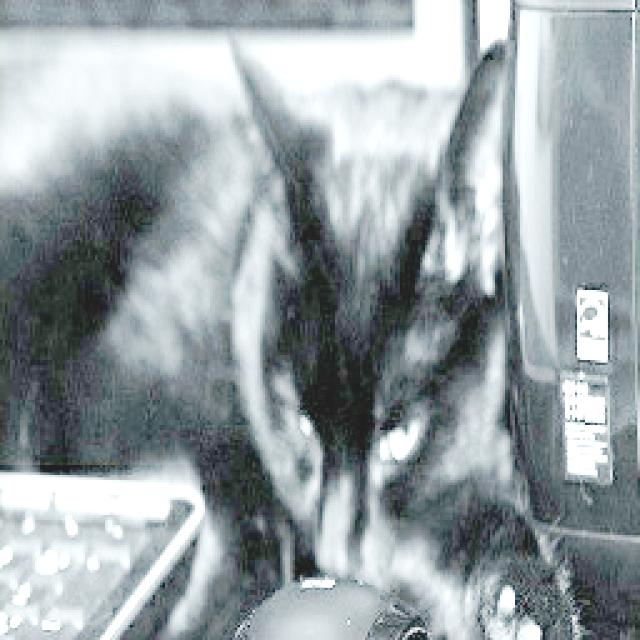cat: (1, 37, 584, 640)
